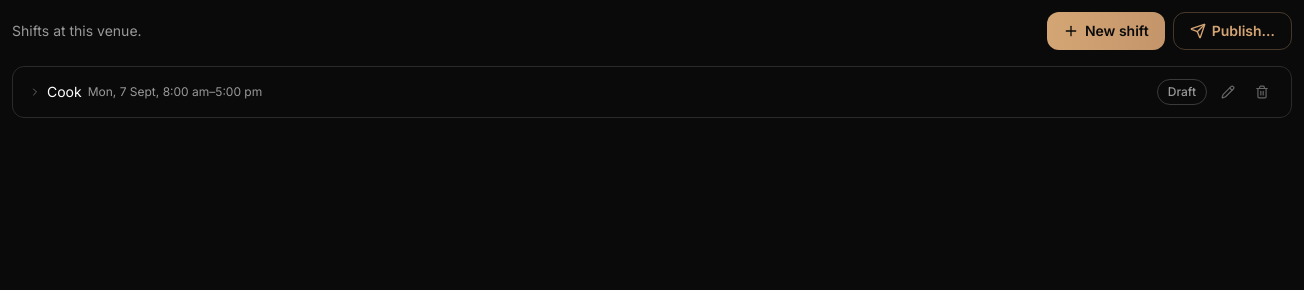
it: ShiftsManager edit action › saves an edited end time on a Draft shift
The width and height of the screenshot is (1304, 290).
Click the button named "Edit shift time".
click(1228, 92)  # box [1215,79,1241,105]
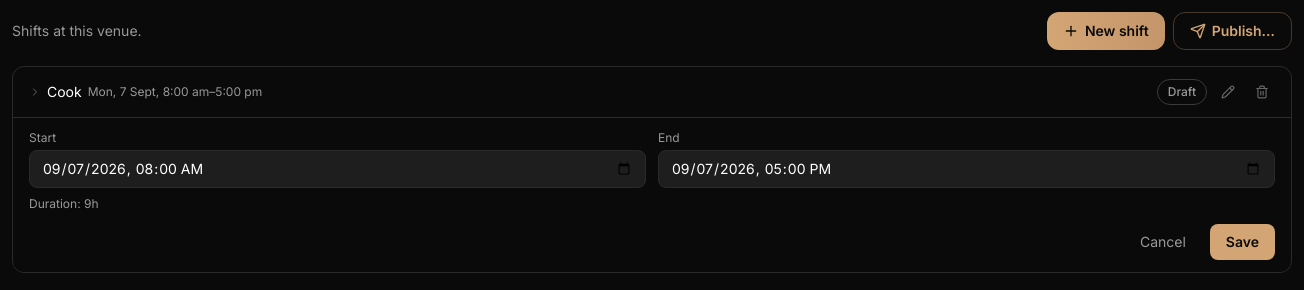
Replace the text in the field labelled "End" with "2026-09-07T19:00" at [966, 169], box [658,150,1275,188]
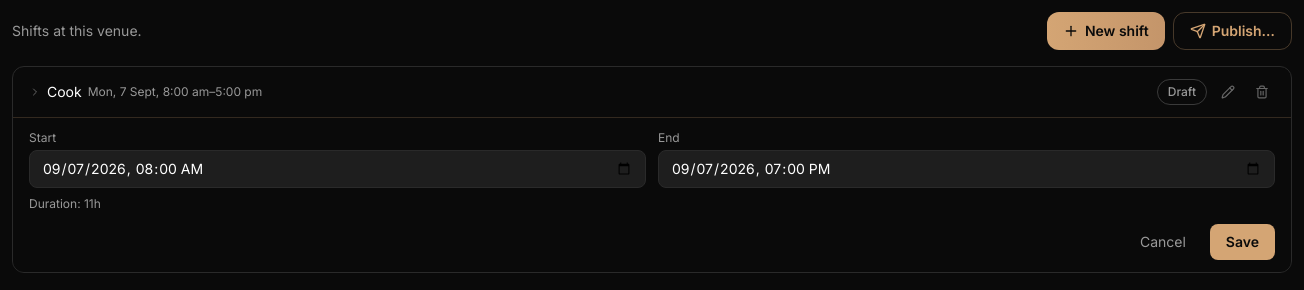
Click the button "Save".
click(1242, 242)  # box [1210,224,1275,260]
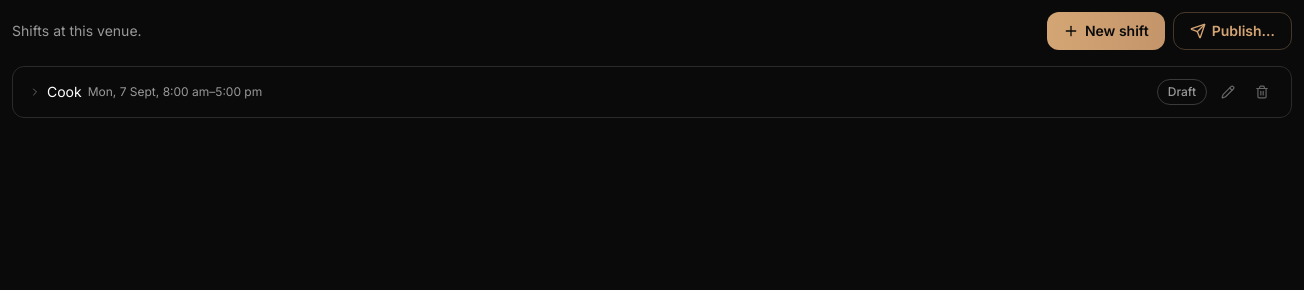
Expected: the button "Save" is gone
